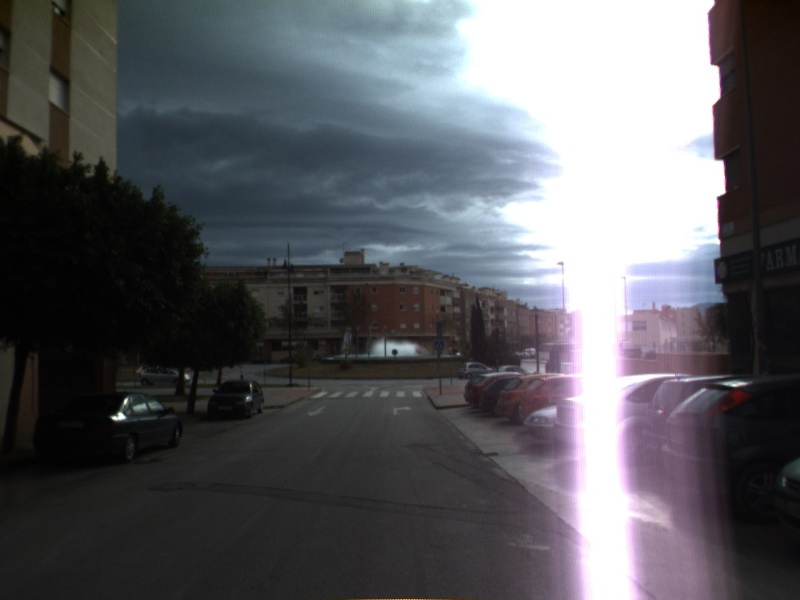RIGHT: (391, 403, 414, 417)
